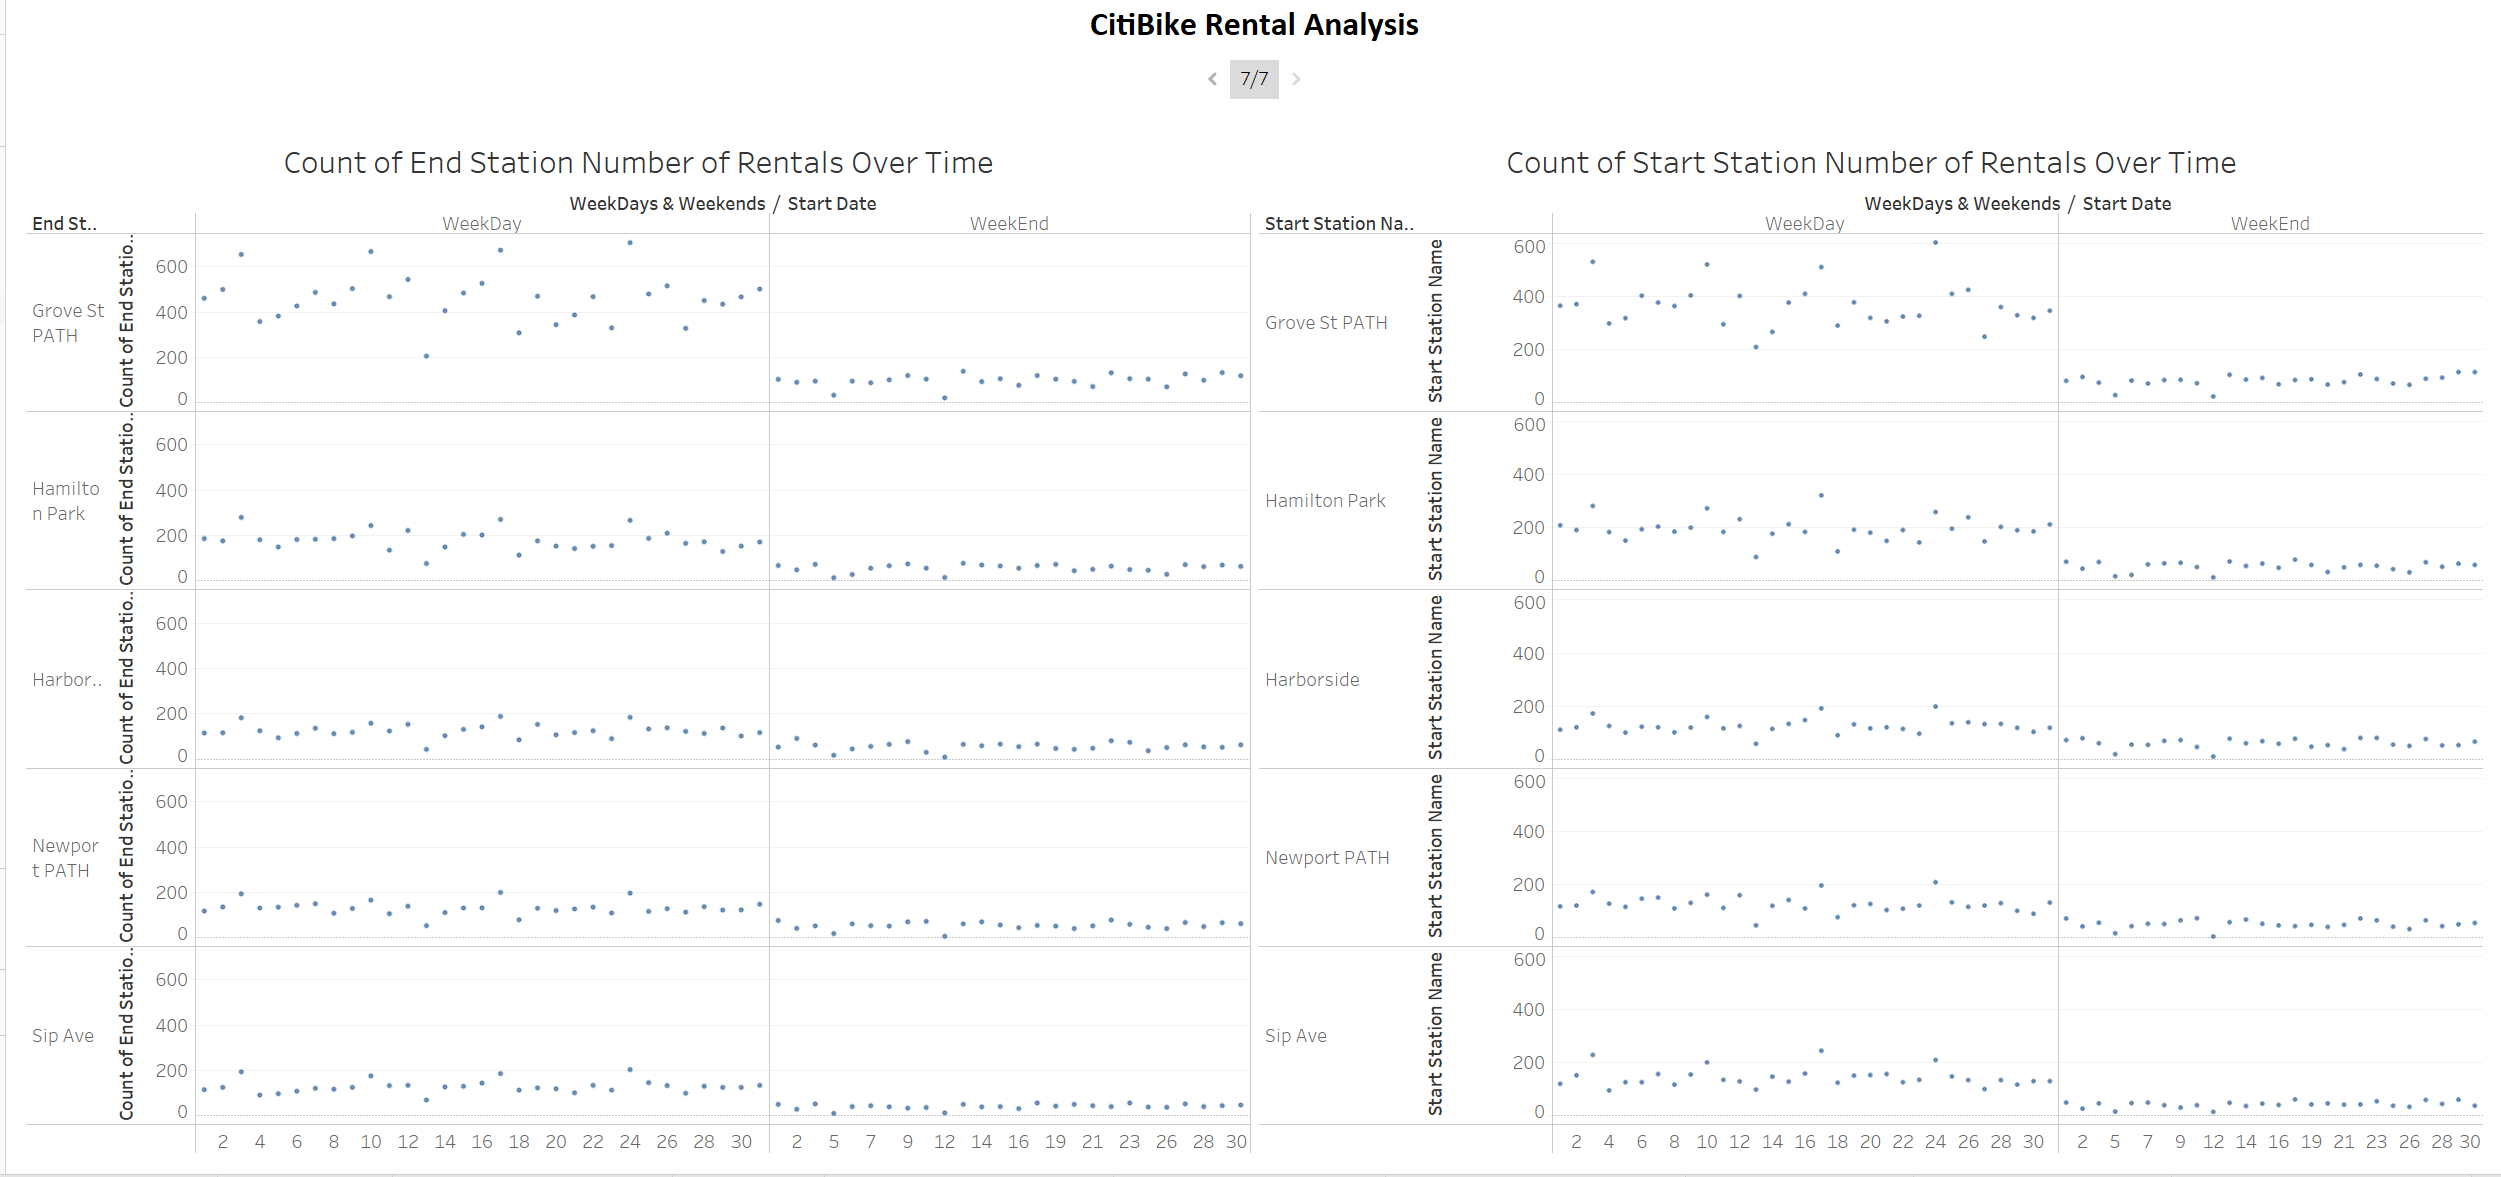

This screenshot's page, from the dashboard's own definition file:
{"tool":"tableau","page":{"name":"Start and End Station Trends","canvas":[1000,1000],"units":"permille","ordinal":3},"visuals":[{"type":"worksheet","box":[0,0,1000,1000]},{"type":"worksheet","title":"End Station Over Timea","mark":"Shape","rows":["end station name","end station name"],"cols":["Calculation_2265310663706128389","Start_Date"],"box":[3.2,7,496.8,986]},{"type":"worksheet","title":"Start Station Over Time","mark":"Shape","rows":["start station name","start station name"],"cols":["Calculation_2265310663706128389","Start_Date"],"box":[500,7,496.8,986]}]}

Visuals, with their boxes on the dashboard's canvas, which has no fixed pixel size, in thousandths of its width and height (x1, y1, x2, y2). These are canvas units, not pixel positions in the 2501x1177 screenshot, which may show the page scaled, cropped or inside an application window:
worksheet: region(0, 0, 1000, 1000)
"End Station Over Timea" worksheet (Shape marks): region(3, 7, 500, 993)
"Start Station Over Time" worksheet (Shape marks): region(500, 7, 997, 993)
